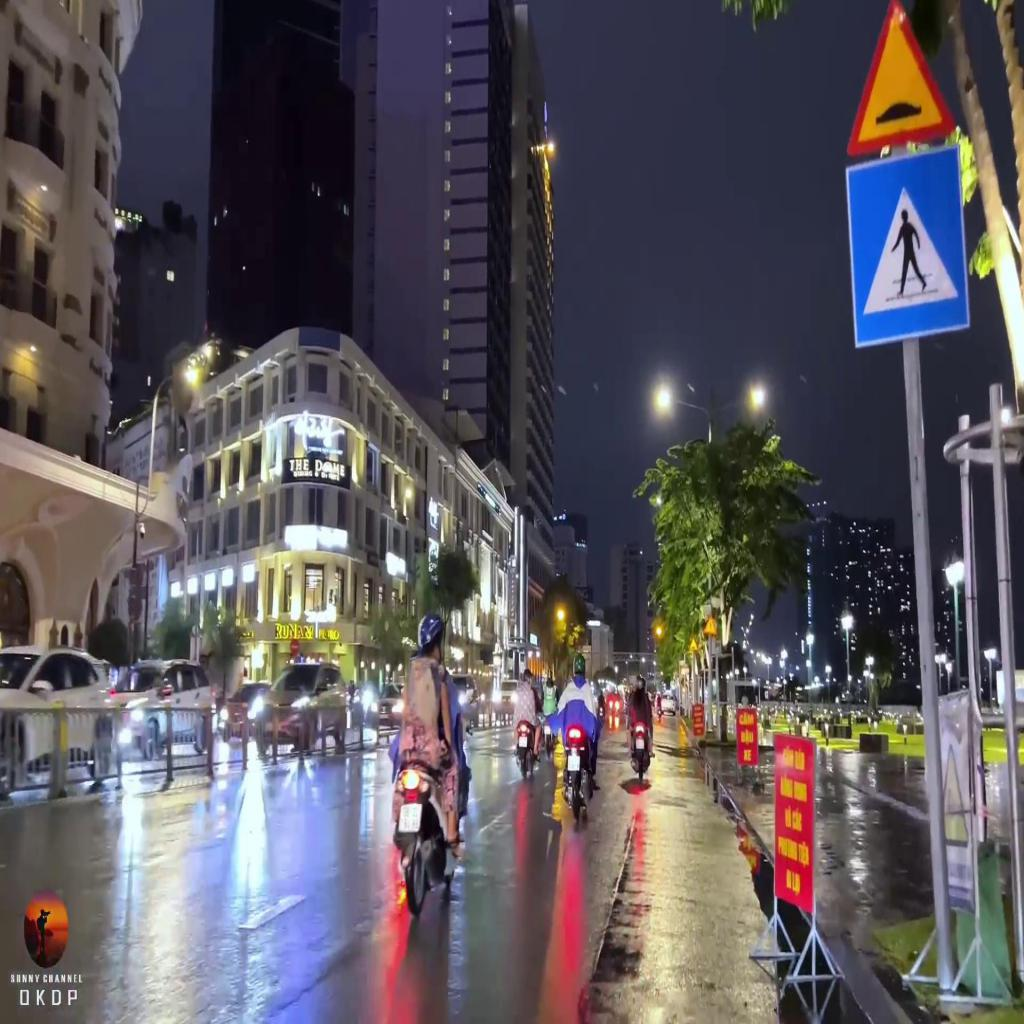duong_co_song_map_mo_nhan_tao: (844, 0, 958, 160)
duong_nguoi_di_bo_sang_ngang: (844, 145, 970, 344)
